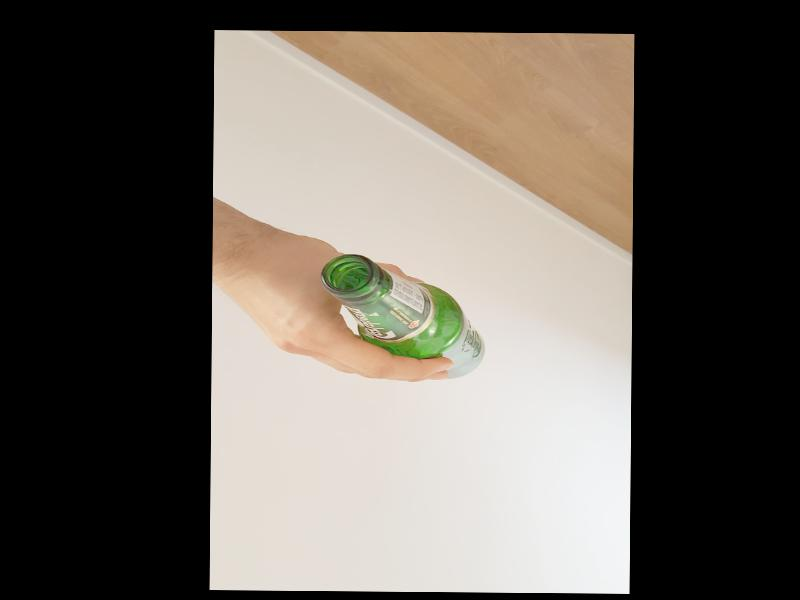Beer: (319, 251, 485, 377)
